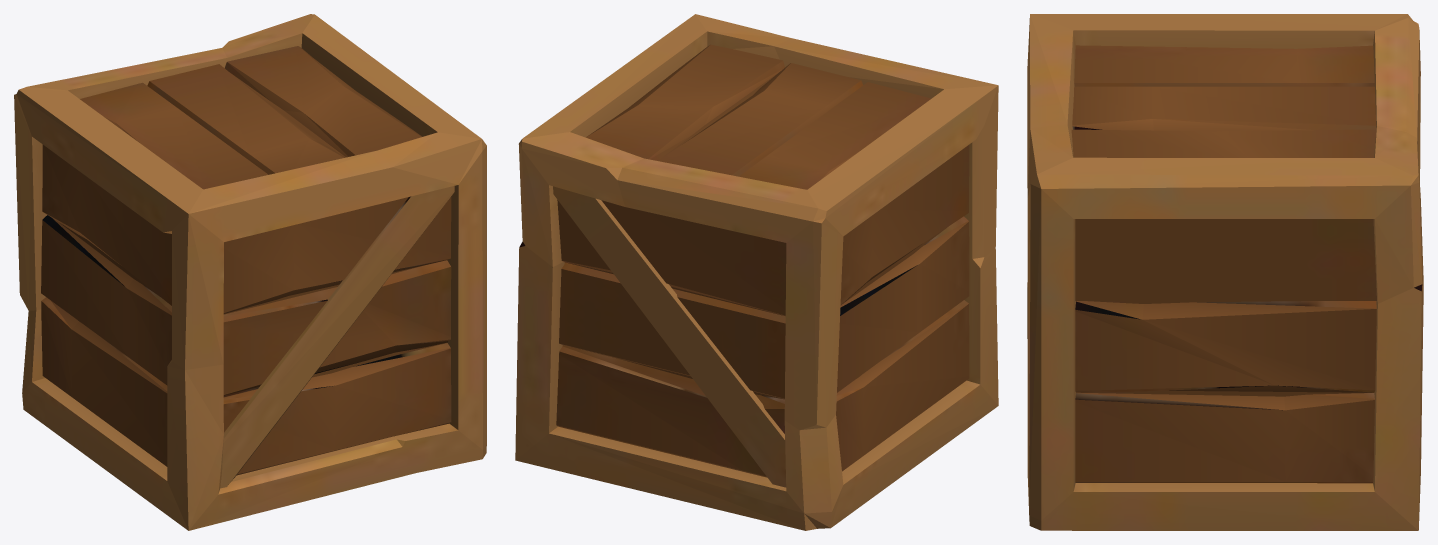
The model's file is wooden_box.glb.
3 views of the same model, side by side, from view 1: azimuth 30°, elevation 25°; view 2: azimuth 150°, elevation 25°; view 3: azimuth 270°, elevation 25° (orthographic). The views are drawn at different scales.
Visible parts, largest first — view 1: wooden_box; view 2: wooden_box; view 3: wooden_box.
Boxes of the visible parts, x1=… form: wooden_box: x1=14, y1=14, x2=486, y2=530; wooden_box: x1=515, y1=14, x2=998, y2=530; wooden_box: x1=1027, y1=14, x2=1423, y2=530.
Size of the model in its own units: 0.4998 by 0.5 by 0.5041.
1 material, 1 textured.
